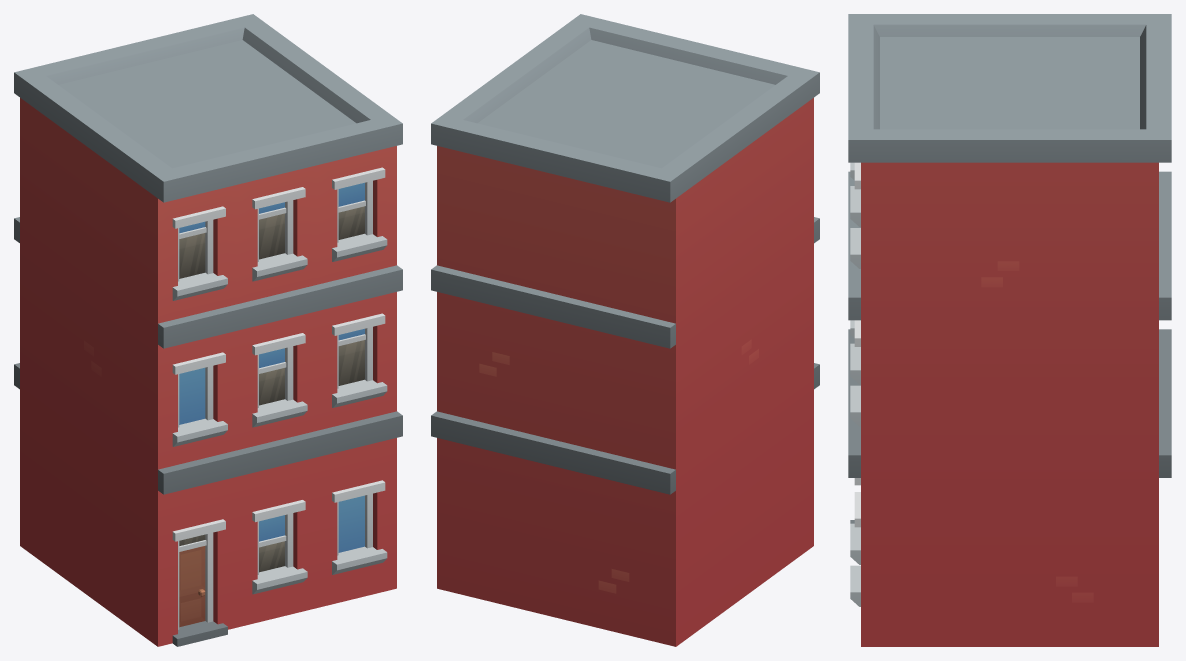
The model's file is building_C_withoutBase-processed.glb.
3 renders of one model, left to right at view 1: azimuth 30°, elevation 25°; view 2: azimuth 150°, elevation 25°; view 3: azimuth 270°, elevation 25°, orthographic. The views are drawn at different scales.
Parts seen in each view (by area): view 1: building_C_withoutBase; view 2: building_C_withoutBase; view 3: building_C_withoutBase.
Boxes of the visible parts, left/top/right/bottom form: building_C_withoutBase: left=14, top=14, right=402, bottom=646; building_C_withoutBase: left=431, top=14, right=819, bottom=646; building_C_withoutBase: left=848, top=14, right=1171, bottom=646.
Bounding box in the file's own units: 1.21 × 2.25 × 1.3.
Materials: 1 (1 with a texture image).
